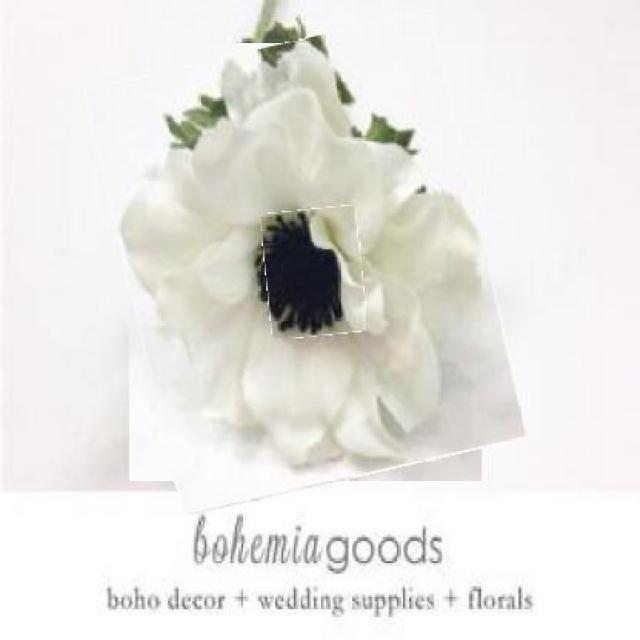Flower: (107, 26, 505, 499), (264, 207, 365, 338)
